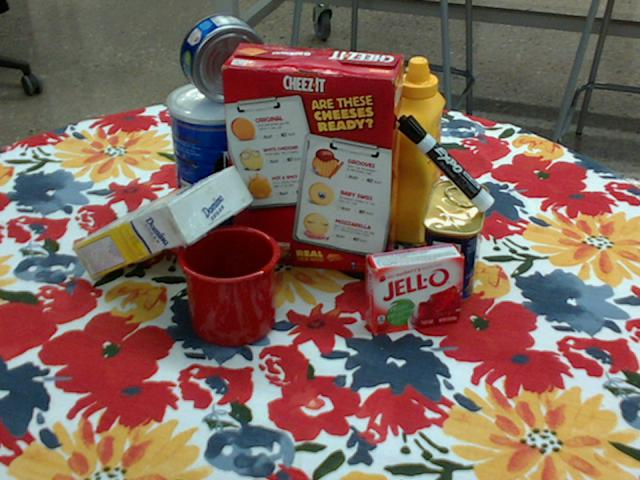cracker_box: (220, 43, 404, 275)
gelatin_box: (366, 243, 465, 336)
large_marker: (398, 115, 495, 212)
master_chef_can: (168, 80, 266, 237)
mug: (177, 224, 281, 346)
mustard_bottle: (388, 58, 446, 245)
potted_meat_can: (422, 180, 490, 304)
sugar_box: (70, 166, 253, 280)
tomato_soup_can: (321, 105, 381, 210)
tuna_fish_can: (180, 14, 266, 102)
